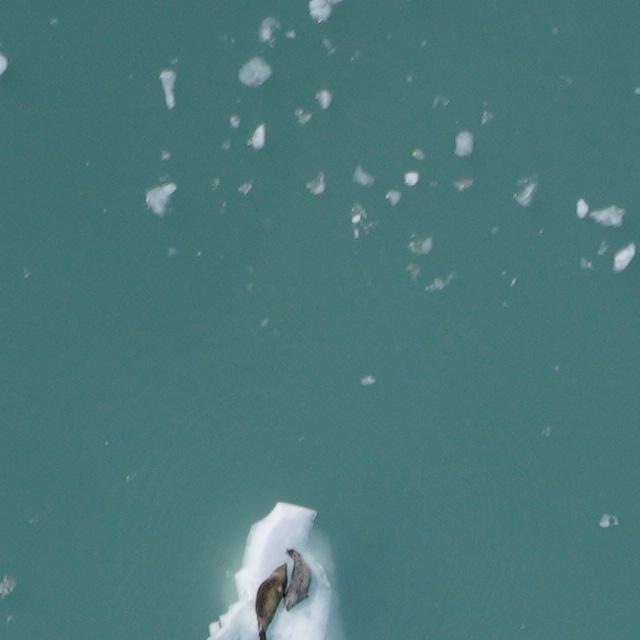seal: (241, 554, 298, 640), (281, 546, 314, 613)
